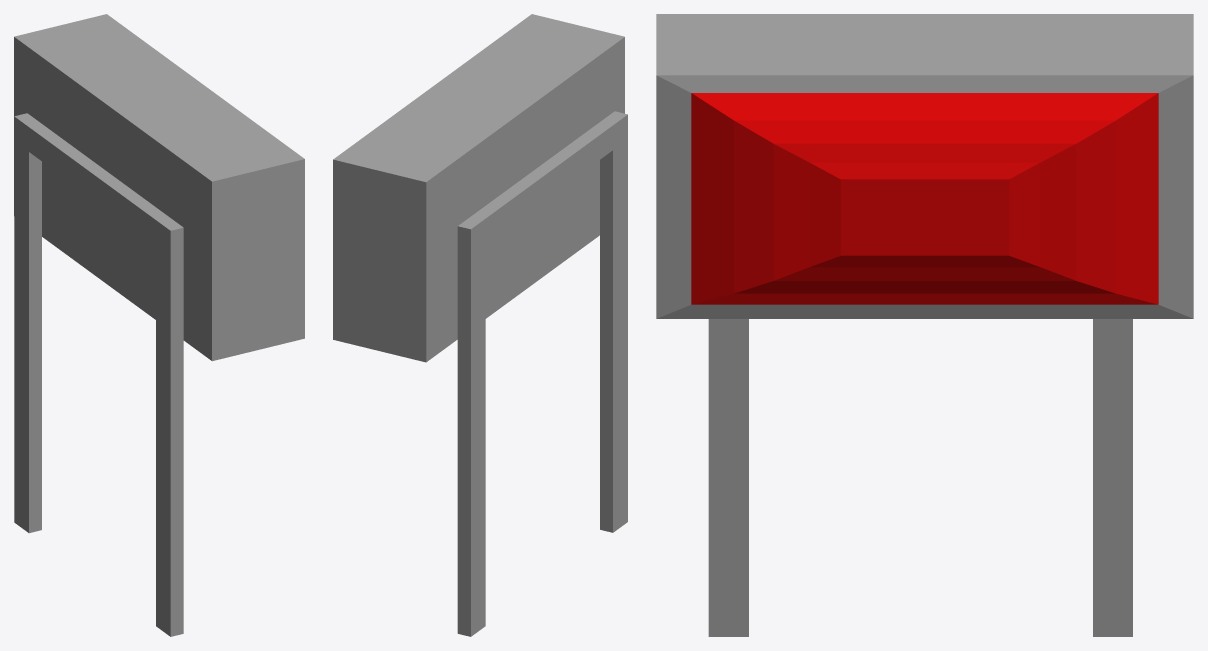
Rendered from Light.fbx.
3 renders of one model, left to right at view 1: azimuth 30°, elevation 25°; view 2: azimuth 150°, elevation 25°; view 3: azimuth 270°, elevation 25°, orthographic. The views are drawn at different scales.
Parts seen in each view (by area): view 1: polySurface1, pCube4; view 2: polySurface1, pCube4; view 3: polySurface1, pCube4.
Part boxes in pixels (bbox=[...]): polySurface1: bbox=[14, 14, 304, 361]; pCube4: bbox=[14, 113, 183, 636]; polySurface1: bbox=[333, 14, 624, 362]; pCube4: bbox=[457, 111, 627, 636]; polySurface1: bbox=[656, 14, 1193, 318]; pCube4: bbox=[708, 319, 1132, 636].
Bounding box in the file's own units: 0.5376 × 1.63 × 1.26.
